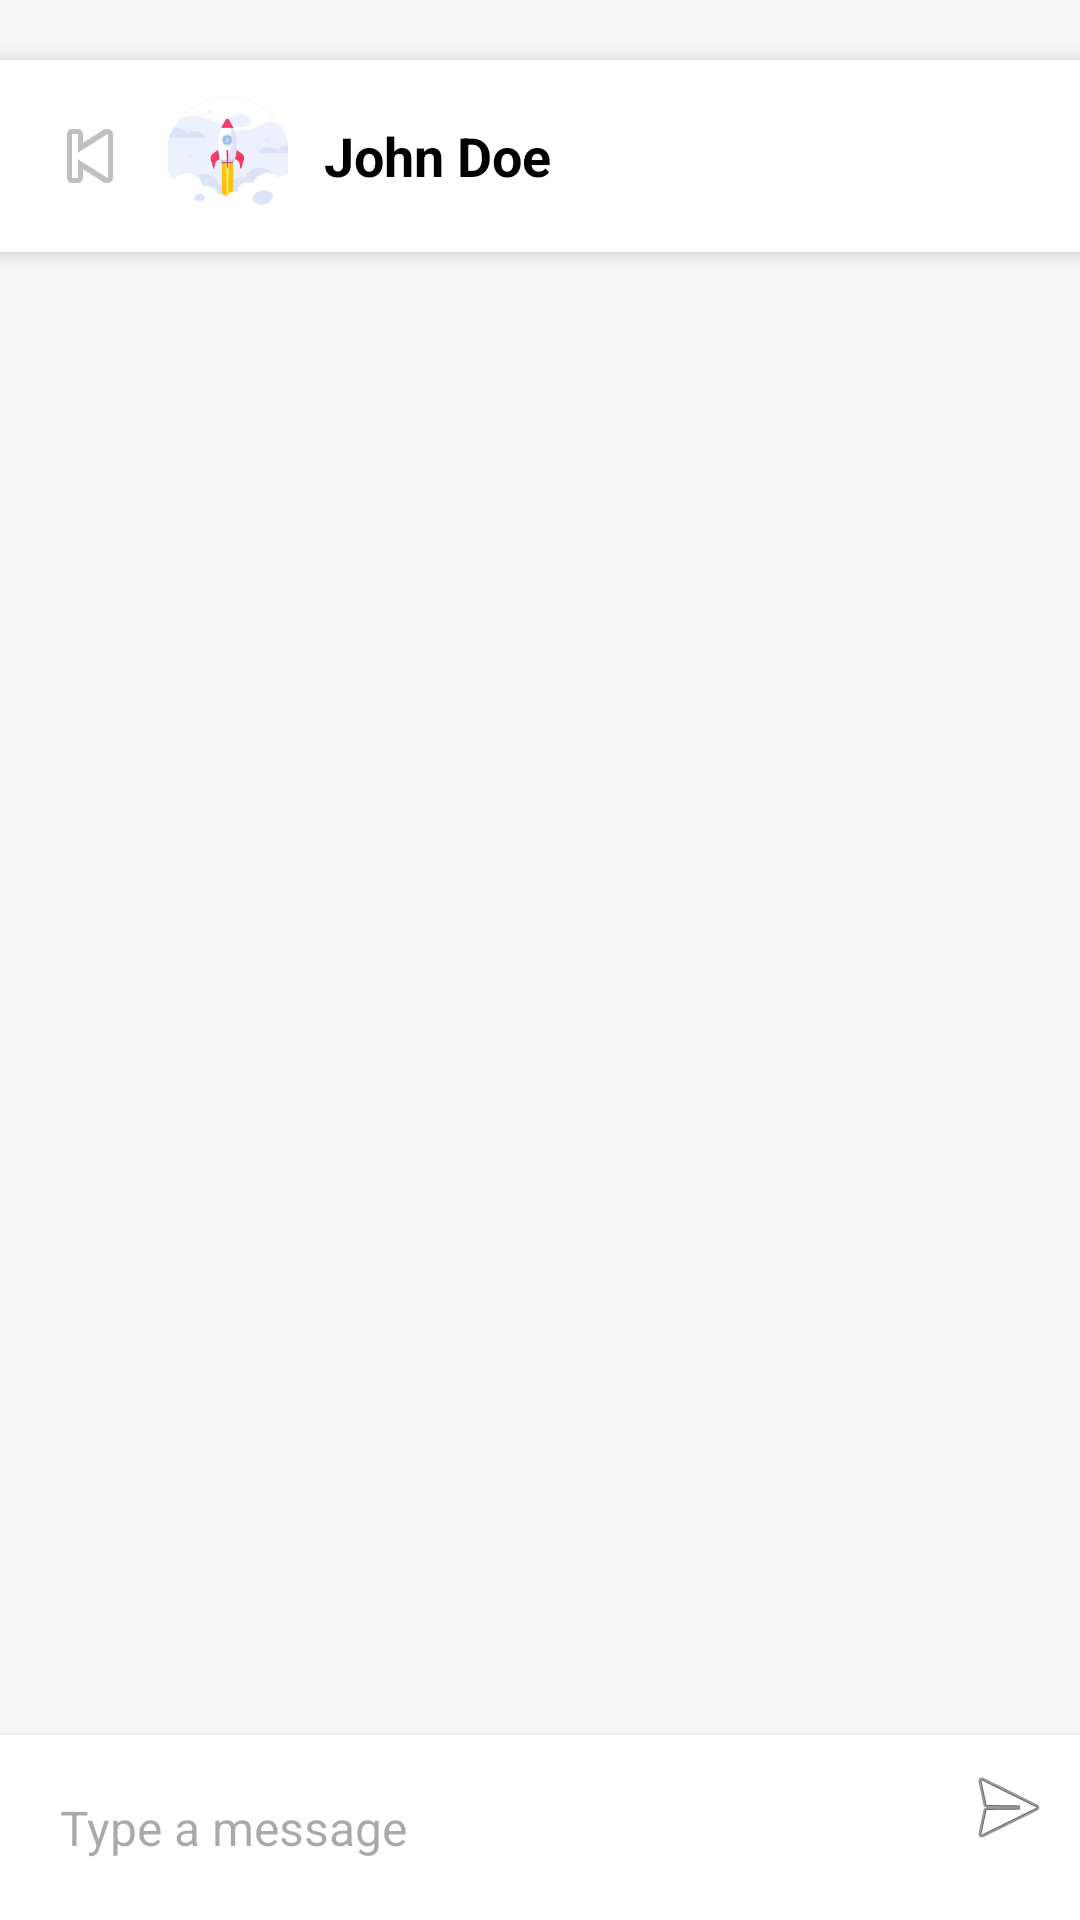

Where icons sit on this 1080×1920 app screen, as (x1, y1, x2, y2):
Back: (67, 129, 113, 183)
Send: (978, 1777, 1040, 1838)
